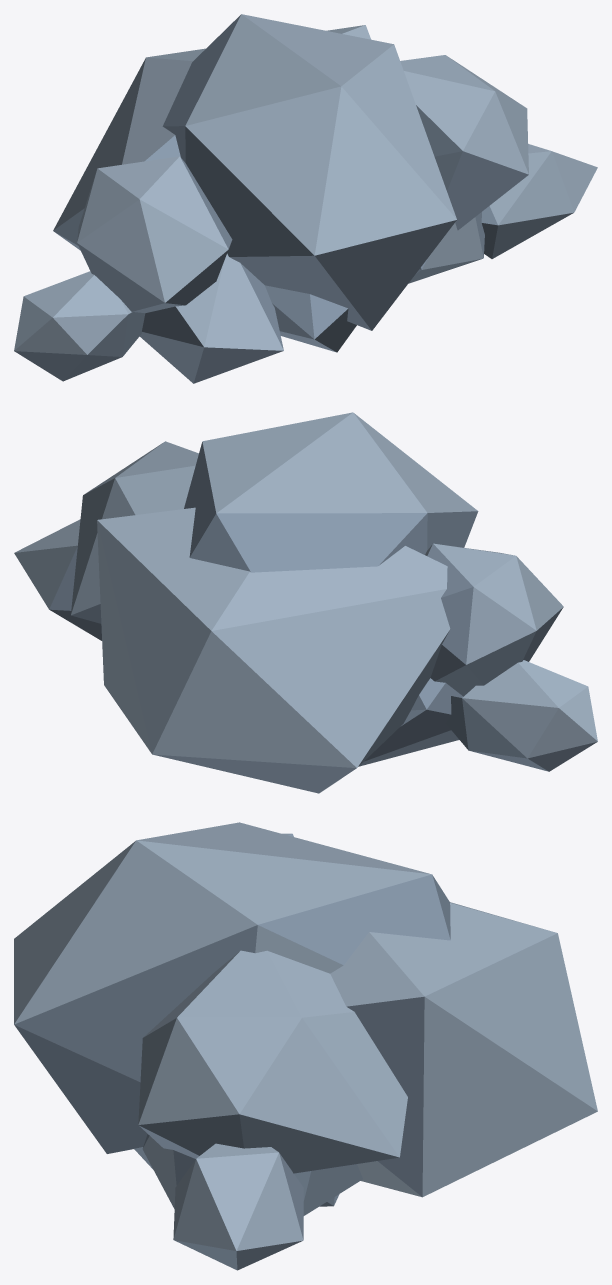
The model's file is Cloud2_Alt1.fbx.
3 renders of one model, top to bottom at view 1: azimuth 30°, elevation 25°; view 2: azimuth 150°, elevation 25°; view 3: azimuth 270°, elevation 25°, orthographic. The views are drawn at different scales.
Parts seen in each view (by area): view 1: Cloud2_Alt1; view 2: Cloud2_Alt1; view 3: Cloud2_Alt1.
Part boxes in pixels (left/top/right/bottom): Cloud2_Alt1: left=14, top=14, right=597, bottom=383; Cloud2_Alt1: left=14, top=412, right=597, bottom=793; Cloud2_Alt1: left=14, top=822, right=597, bottom=1270.
Bounding box in the file's own units: 2.09 × 1.01 × 1.45.
